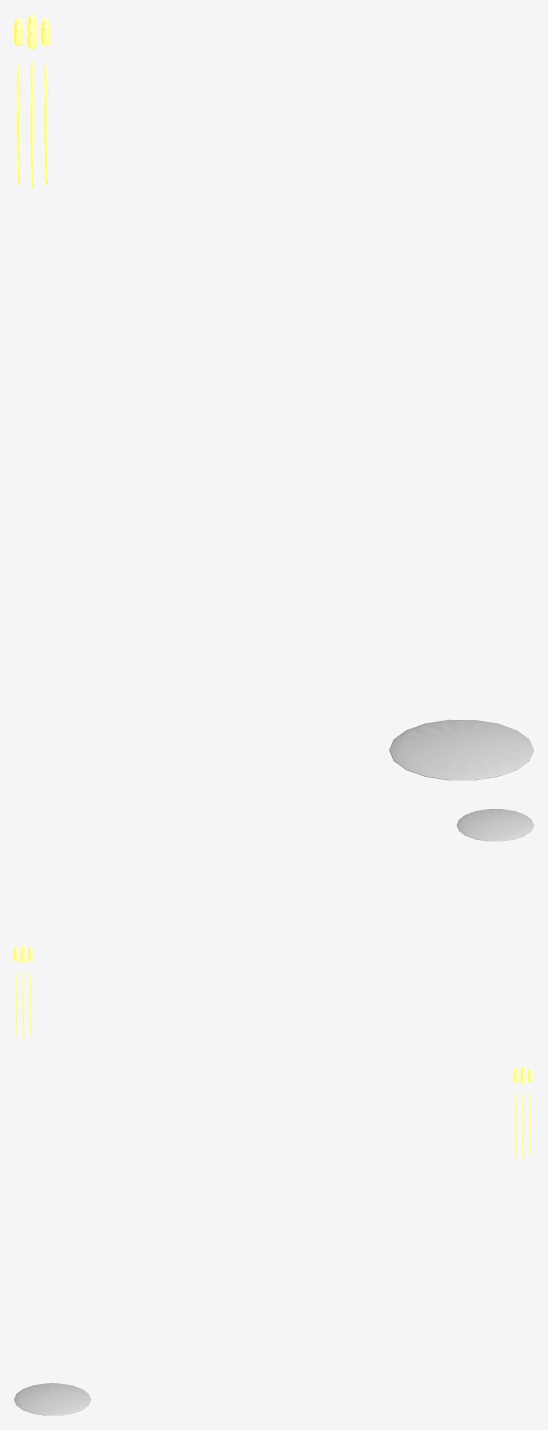
Rendered from farm_crop_wheat_s2_v3.glb.
3 renders of one model, top to bottom at view 1: azimuth 30°, elevation 25°; view 2: azimuth 150°, elevation 25°; view 3: azimuth 330°, elevation 25°, orthographic. The views are drawn at different scales.
Visible parts, largest first — view 1: soil.005; view 2: soil.005; view 3: soil.005.
Boxes of the visible parts, x1,y1,x2,y2 form: soil.005: (389, 719, 533, 780); soil.005: (456, 809, 533, 841); soil.005: (14, 1383, 91, 1415).
Size of the model in its own units: 1.35 by 0.8396 by 5.35.
